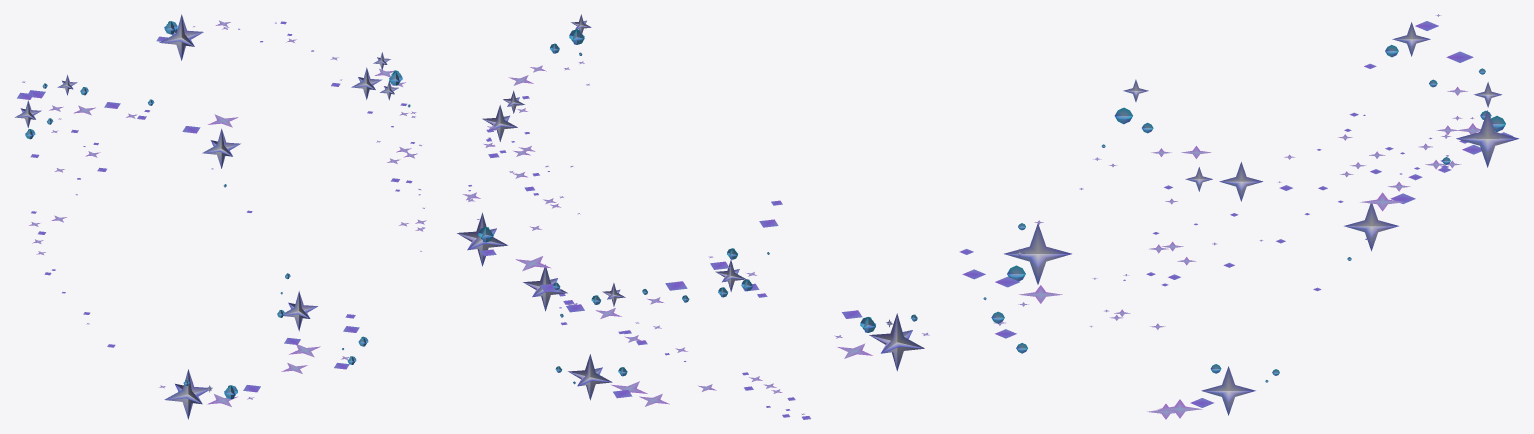
3 renders of one model, left to right at view 1: azimuth 30°, elevation 25°; view 2: azimuth 150°, elevation 25°; view 3: azimuth 270°, elevation 25°, orthographic. The views are drawn at different scales.
Parts seen in each view (by area): view 1: starcloud249; view 2: starcloud249; view 3: starcloud249.
Boxes of the visible parts, x1,y1,x2,y2 form: starcloud249: (15, 14, 426, 419); starcloud249: (457, 14, 929, 419); starcloud249: (959, 14, 1518, 419).
Size of the model in its own units: 0.3907 by 0.3718 by 0.5.
